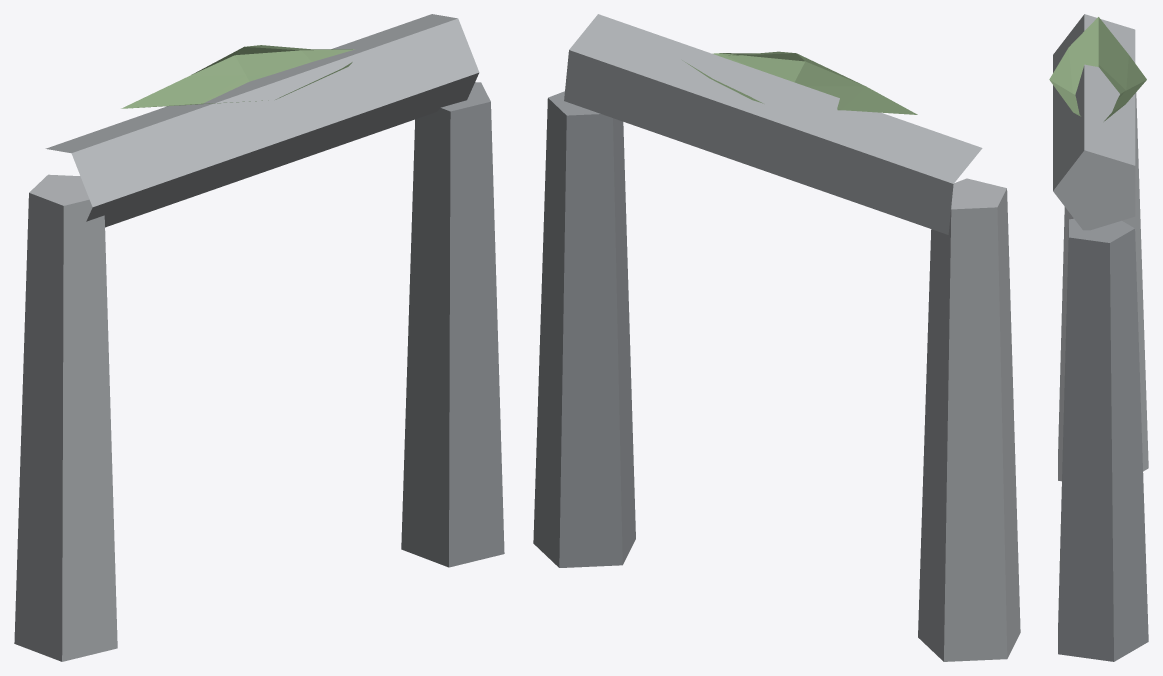
The model's file is arch_rock_v25.glb.
3 renders of one model, left to right at view 1: azimuth 30°, elevation 25°; view 2: azimuth 150°, elevation 25°; view 3: azimuth 270°, elevation 25°, orthographic. The views are drawn at different scales.
Parts seen in each view (by area): view 1: lod0; view 2: lod0; view 3: lod0.
Boxes of the visible parts, box(x1,y1,x2,y2) form: lod0: box(14, 14, 504, 661); lod0: box(533, 14, 1020, 661); lod0: box(1049, 14, 1148, 661).
Size of what is drawn, in the model's own units: 2.22 by 2.43 by 0.4363.
